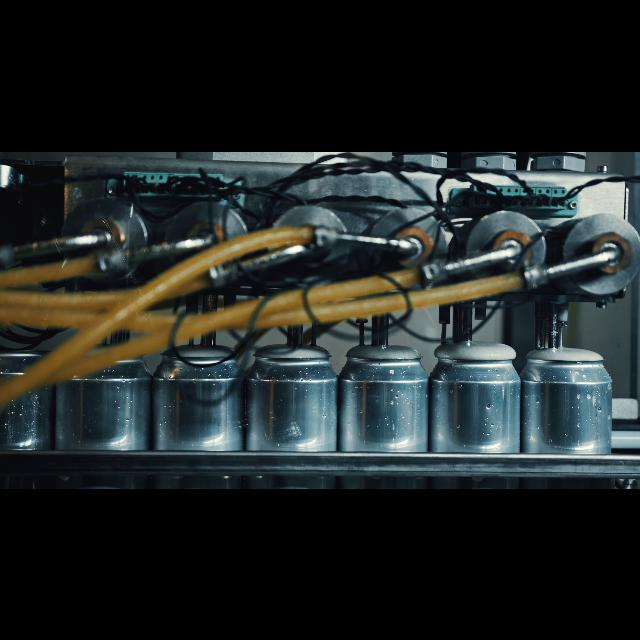empty: (59, 344, 147, 488), (0, 340, 50, 488)
full: (430, 334, 520, 488), (154, 336, 242, 488), (249, 336, 335, 488), (342, 334, 424, 488), (528, 334, 610, 488)
